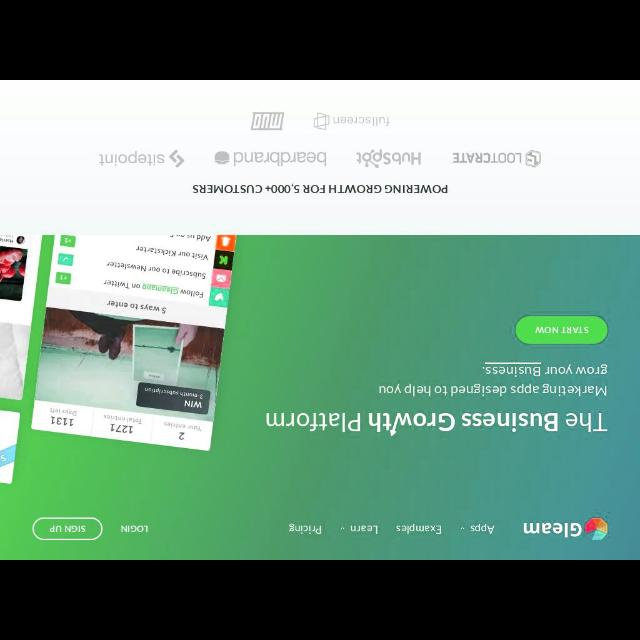icon: (460, 527, 466, 531), (340, 526, 346, 528)
image: (1, 235, 236, 482), (215, 148, 328, 168), (98, 149, 185, 167), (450, 150, 542, 167), (353, 150, 422, 168), (314, 112, 391, 126), (250, 112, 286, 132), (582, 518, 612, 540)
text: (265, 409, 609, 435), (378, 364, 608, 396), (192, 183, 450, 195), (523, 522, 583, 538), (534, 324, 592, 336), (286, 522, 322, 536), (396, 524, 442, 534), (349, 522, 378, 536), (48, 524, 86, 534), (469, 522, 495, 534), (120, 525, 148, 533)
textbutton: (516, 316, 606, 342), (34, 516, 102, 540)
